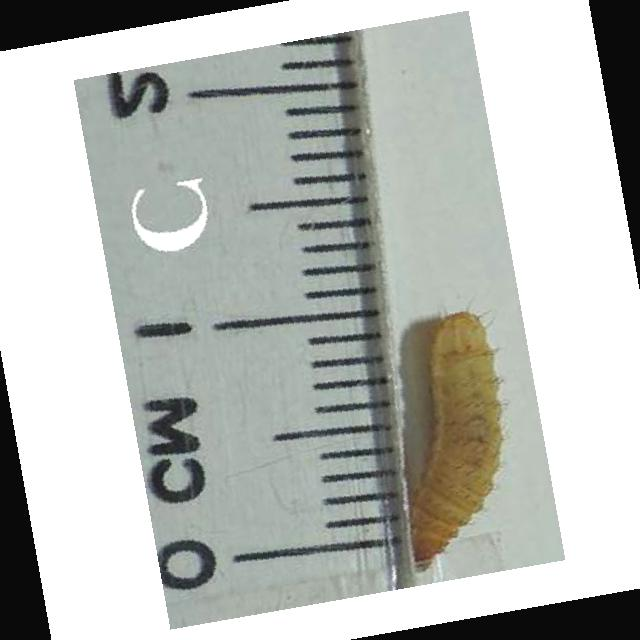Maggot: (409, 310, 501, 573)
